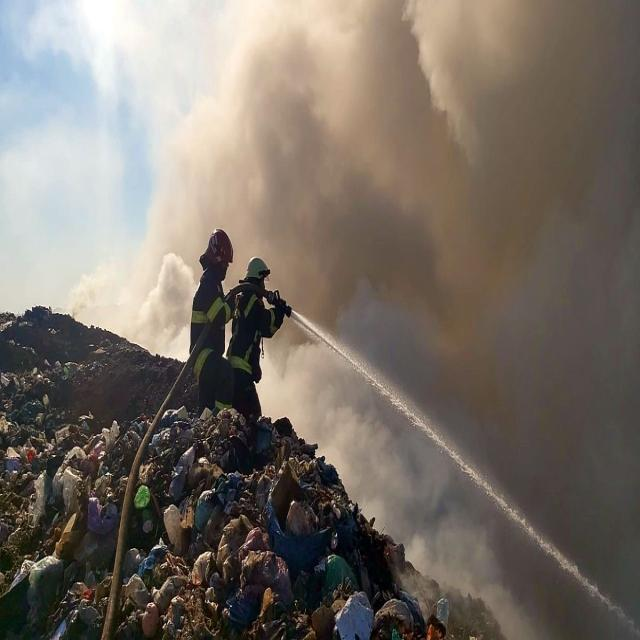Smoke: (201, 4, 640, 495)
